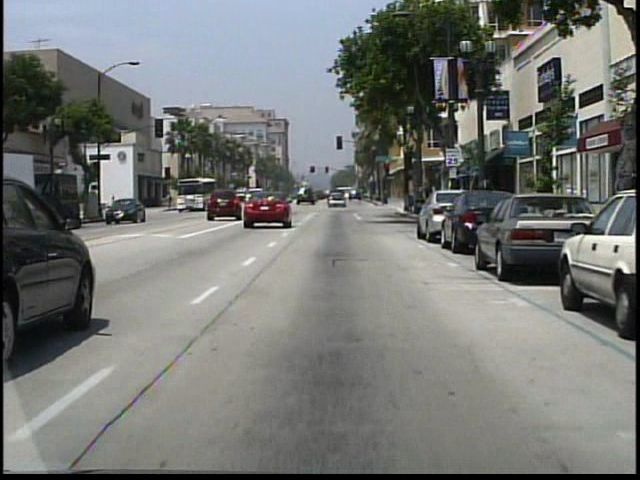person: (111, 194, 120, 216)
